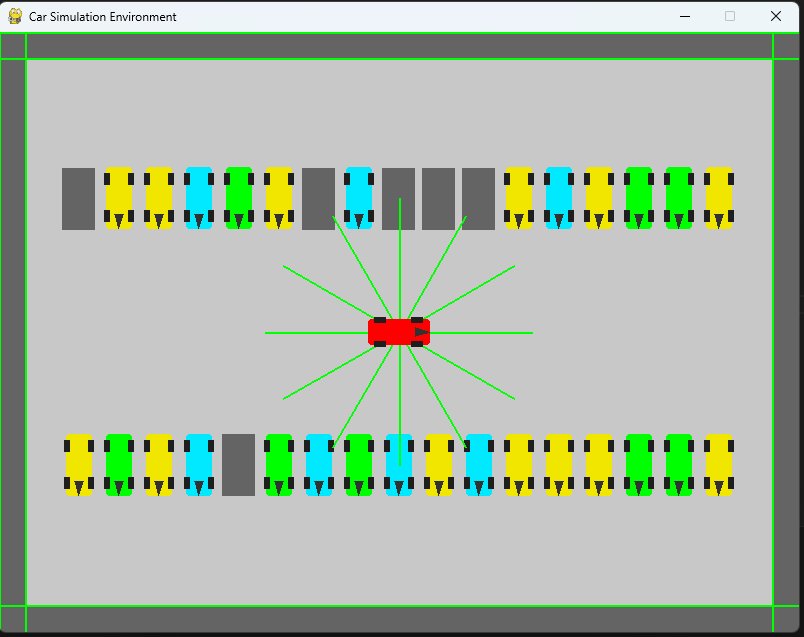ControlledCar: (354, 310, 434, 357)
ParkedCar: (259, 163, 298, 235), (259, 430, 297, 502), (498, 432, 539, 498), (620, 160, 657, 233), (141, 164, 179, 235), (700, 430, 739, 499), (417, 430, 457, 496), (620, 433, 661, 497), (459, 433, 497, 502), (60, 427, 96, 499), (100, 164, 137, 234), (541, 166, 578, 233), (541, 434, 578, 498), (662, 164, 696, 233), (581, 163, 616, 230), (300, 433, 336, 498), (502, 166, 537, 232), (382, 430, 415, 500), (662, 434, 697, 500), (139, 432, 175, 496), (182, 163, 215, 232), (101, 432, 133, 503), (222, 163, 255, 231), (704, 163, 737, 231), (340, 165, 375, 229), (583, 433, 617, 498), (184, 434, 218, 497), (344, 429, 374, 499)
ParkingSpot: (53, 164, 97, 237), (220, 426, 256, 506), (380, 163, 418, 238), (420, 163, 459, 235), (298, 161, 336, 233), (461, 165, 497, 231)
